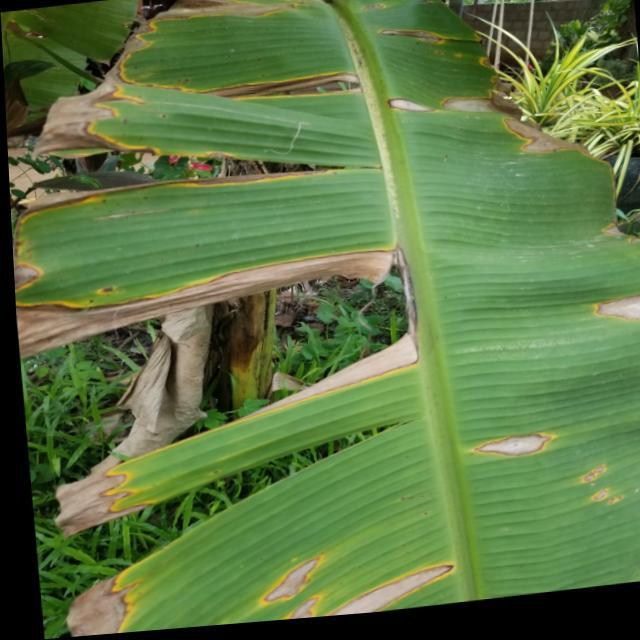Early_rust: (20, 0, 640, 606)
